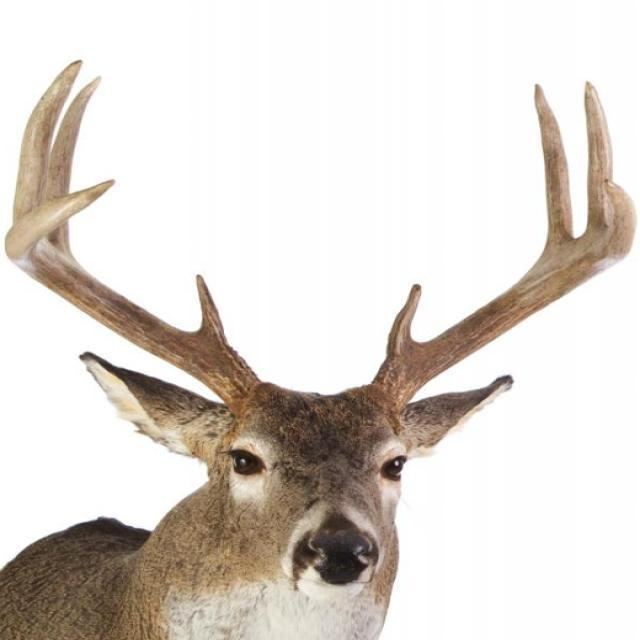L-F: (369, 180, 637, 411)
L-G1: (384, 282, 423, 361)
L-G2: (534, 84, 575, 254)
R-F: (5, 179, 262, 426)
R-G1: (194, 273, 231, 345)
